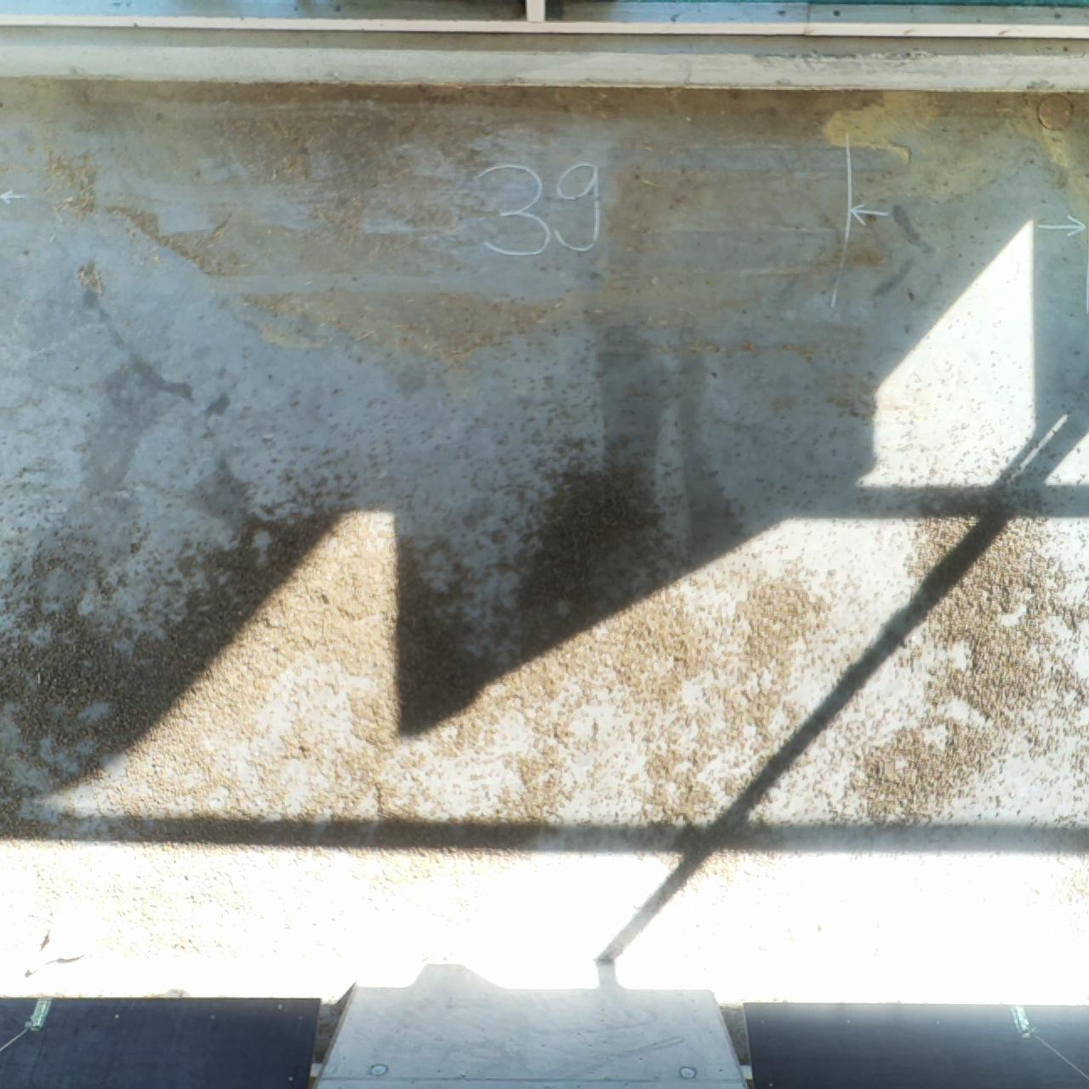chicken: (23, 903, 107, 984)
